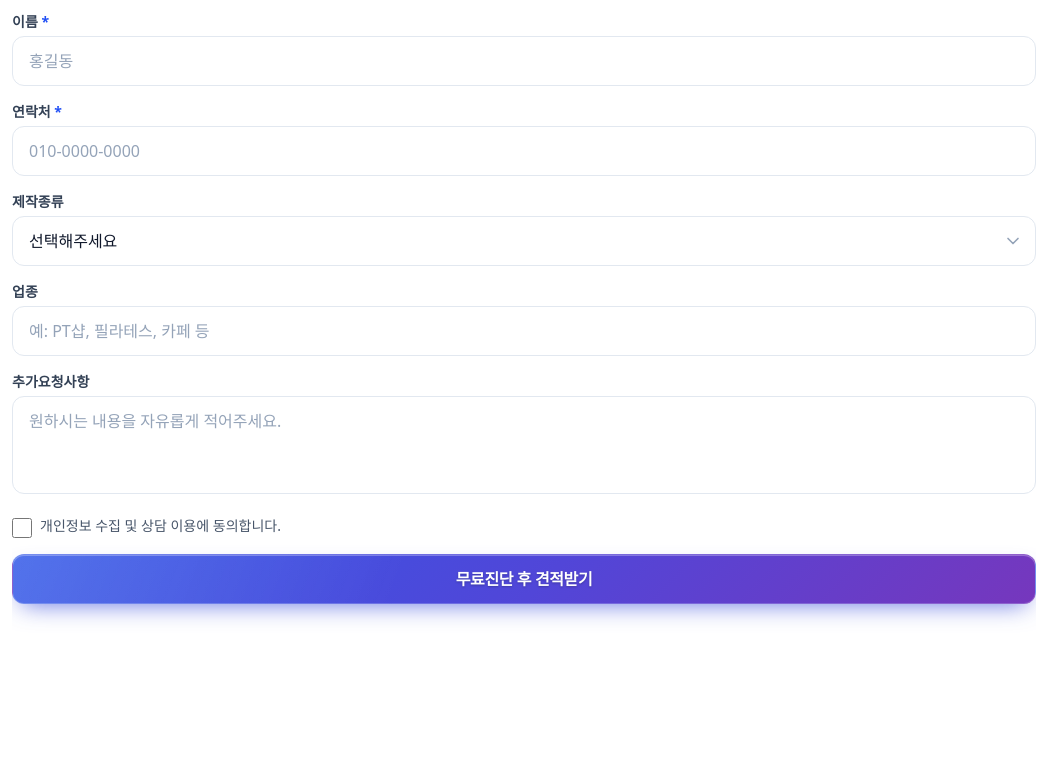
Test case: SubmissionForm › shows error when phone missing
Type "홍" into the field with placeholder "홍길동" at (524, 61), box [12,36,1036,86]
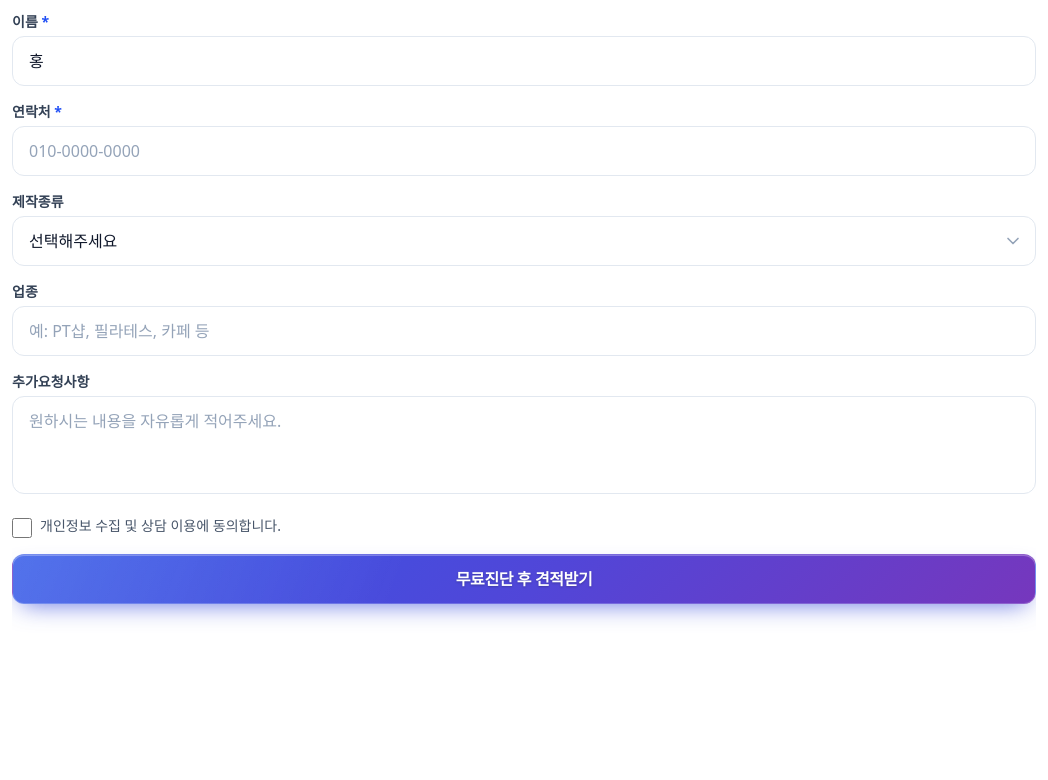
Click the button at (524, 579), box [12,554,1036,604]
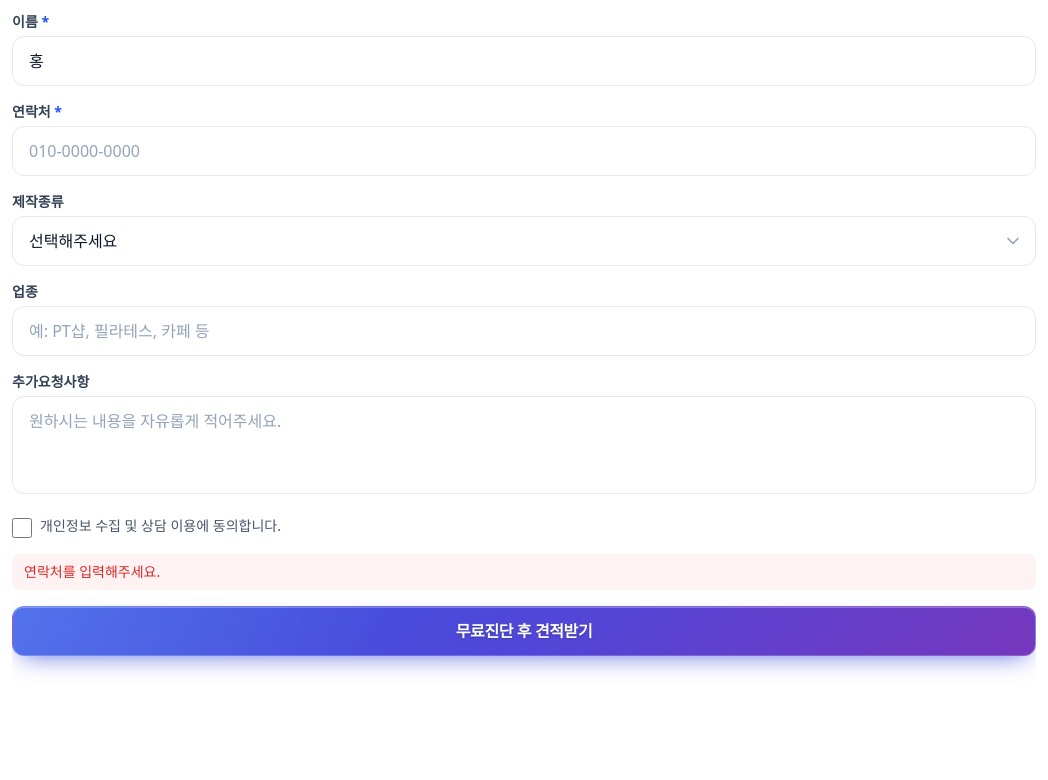
Expected: the text "연락처를 입력해주세요." is shown, [12,554,1036,590]
